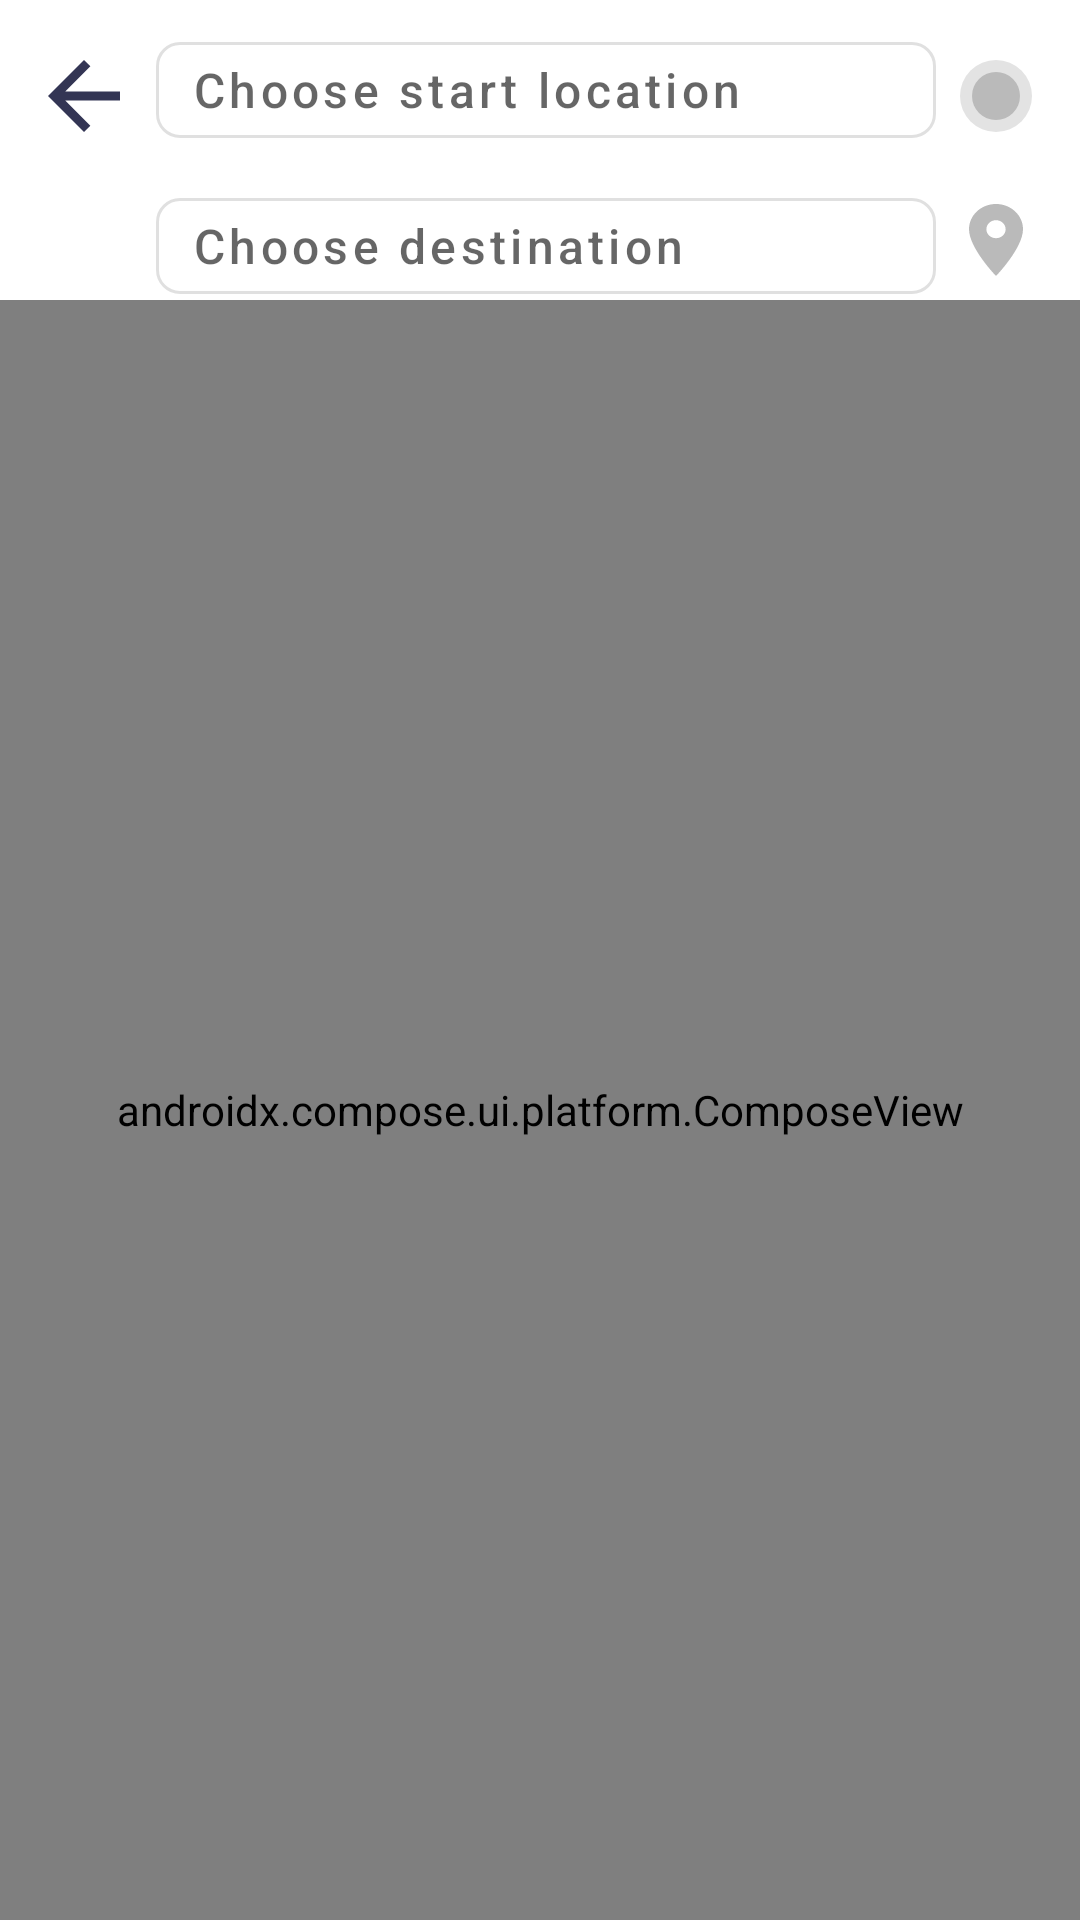

Where icons sit on this 1080×1920 app screen, as [x1=x1, y1=y1, x2=x2, y2=y2]:
back: [x1=48, y1=60, x2=120, y2=132]
